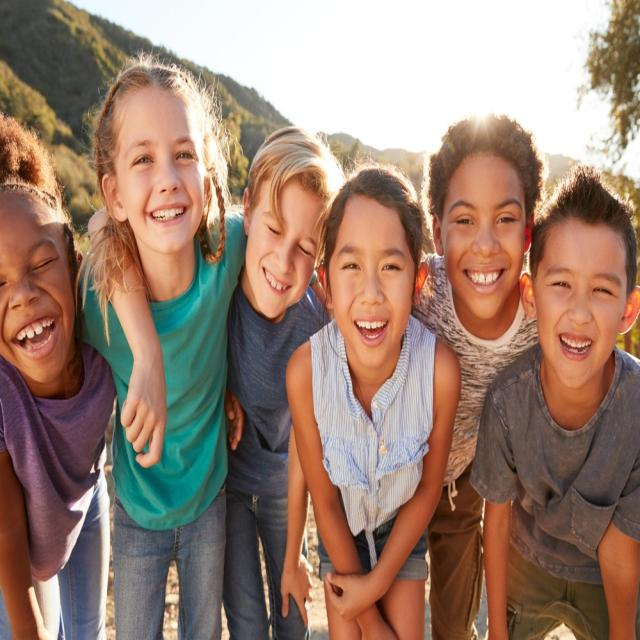child: (73, 57, 242, 640), (284, 169, 461, 640), (477, 167, 640, 640), (408, 123, 536, 640), (219, 120, 331, 640), (1, 110, 110, 640)
